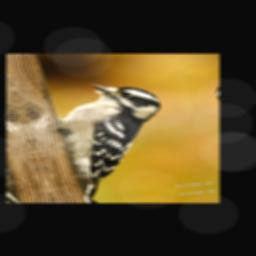Woodpecker: (37, 78, 192, 200)
